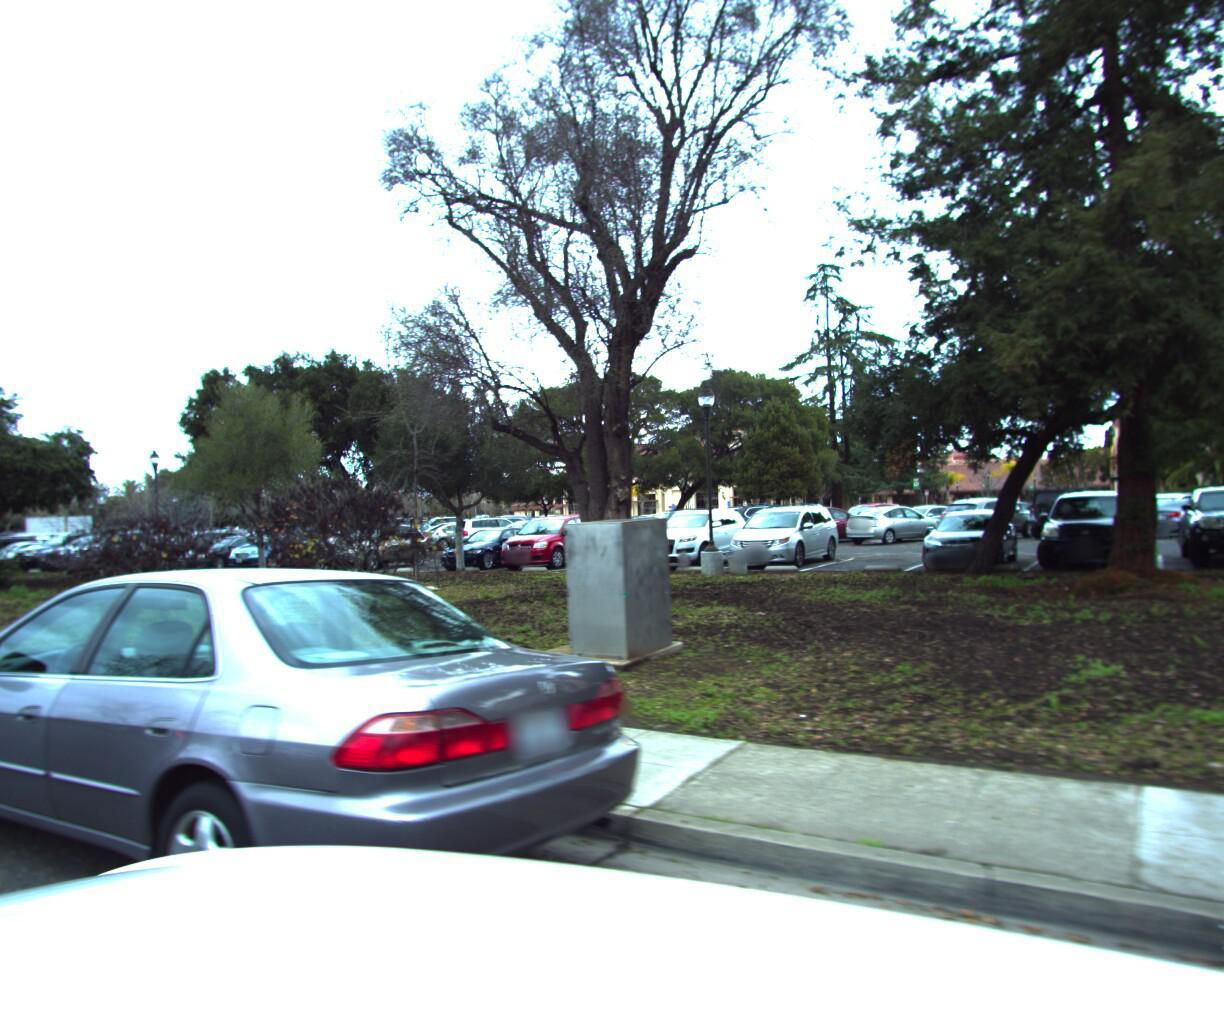car: (0, 544, 668, 1024)
